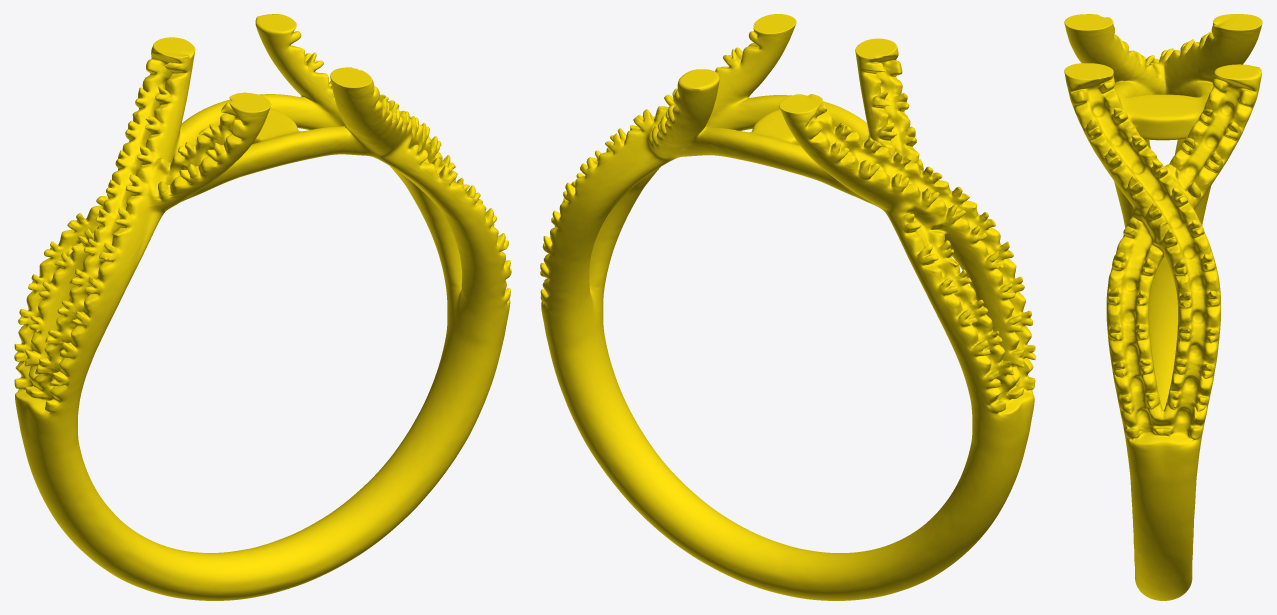
Rendered from Shank_Twist_French Pave_A_Single Halo_Band.glb.
3 views of the same model, side by side, from view 1: azimuth 30°, elevation 25°; view 2: azimuth 150°, elevation 25°; view 3: azimuth 270°, elevation 25° (orthographic).
Size of the model in its own units: 0.0212 by 0.0226 by 0.0077.
